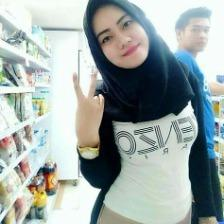Non Syar-i: (81, 0, 196, 126)
